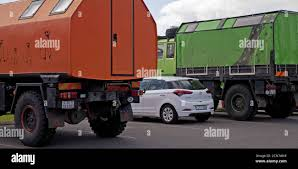car: (120, 75, 215, 123)
